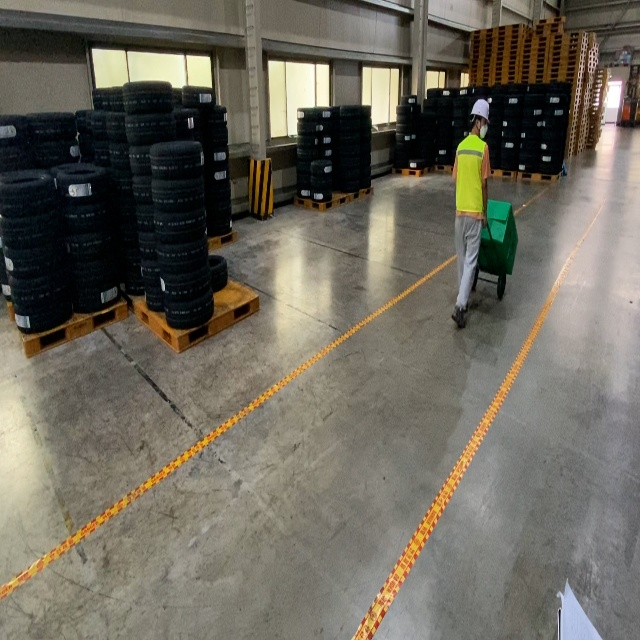Box: (478, 198, 515, 260)
Worker: (451, 99, 492, 329)
